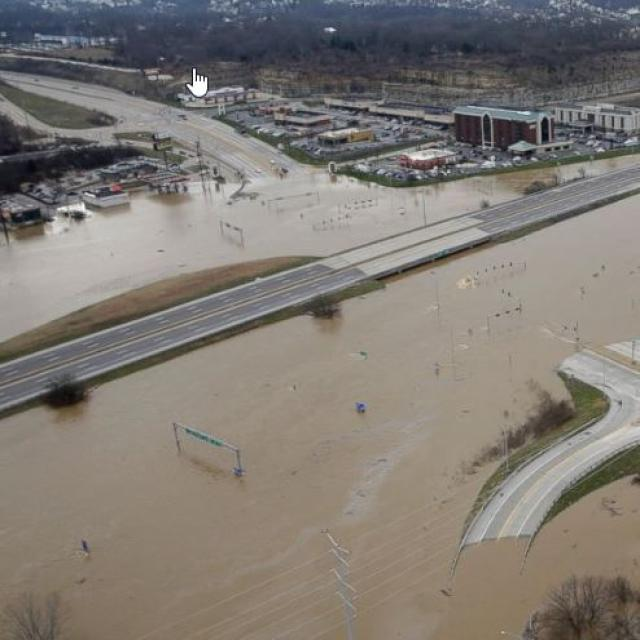flooded_areas: (0, 144, 624, 638)
